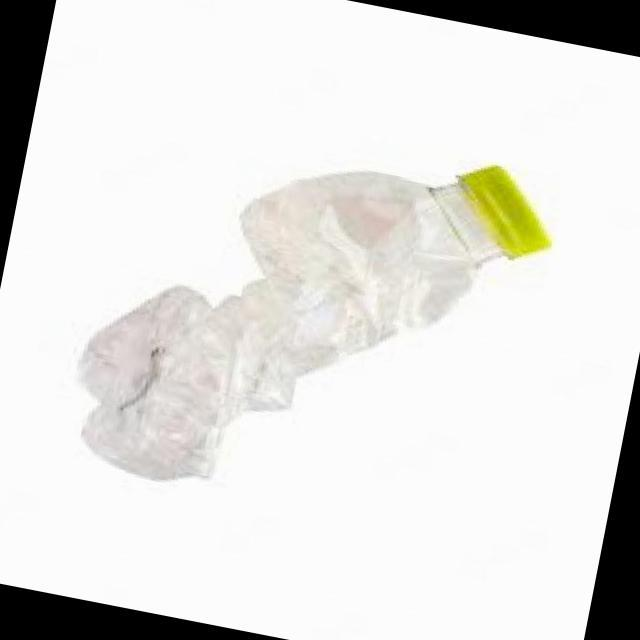defected: (55, 85, 572, 552)
